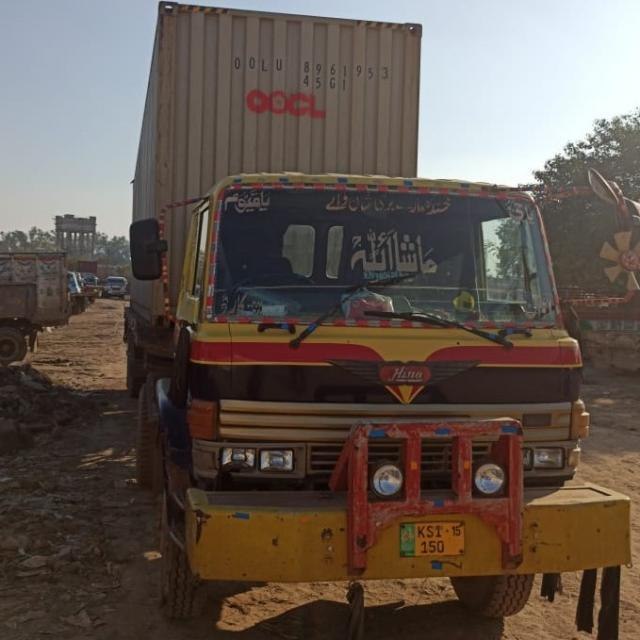plate: (399, 522, 465, 556)
